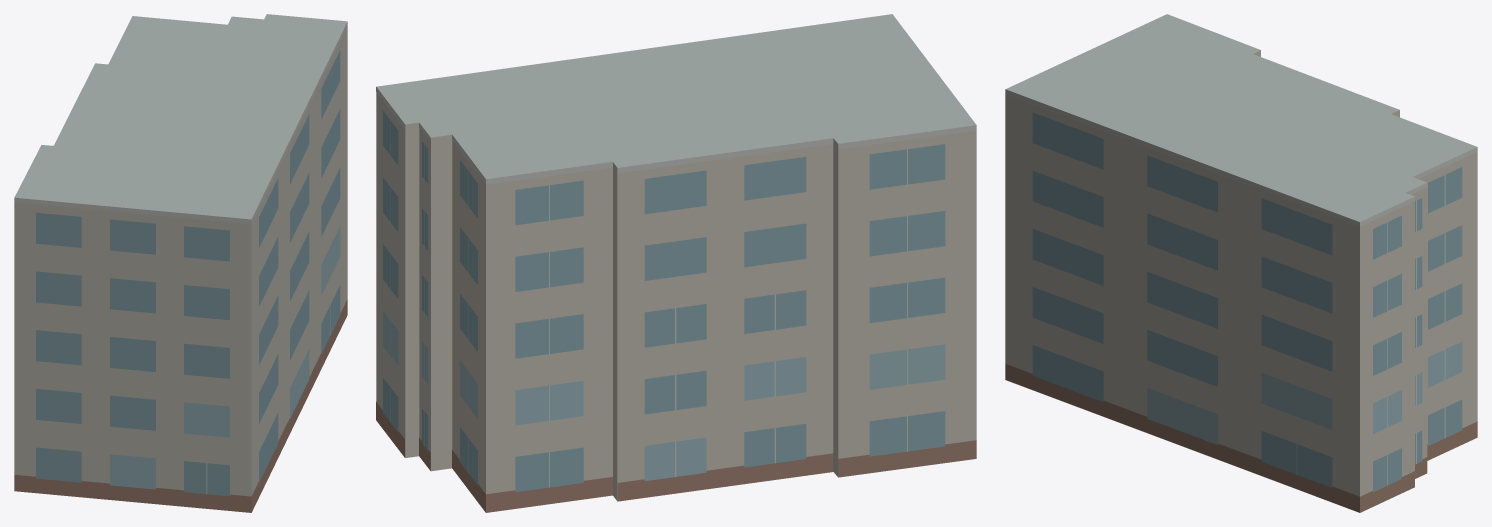
Rendered from survey-upis-32533941.glb.
The picture shows the model from 3 angles, left to right: view 1: azimuth 30°, elevation 25°; view 2: azimuth 150°, elevation 25°; view 3: azimuth 270°, elevation 25°; orthographic projection. The views are drawn at different scales.
Visible parts, largest first — view 1: survey-upis-32533941.tmp; view 2: survey-upis-32533941.tmp; view 3: survey-upis-32533941.tmp.
Boxes of the visible parts, x1,y1,x2,y2 form: survey-upis-32533941.tmp: [14, 14, 347, 512]; survey-upis-32533941.tmp: [376, 14, 976, 512]; survey-upis-32533941.tmp: [1005, 14, 1477, 512].
Size of the model in its own units: 22.74 by 14.8 by 21.79.
